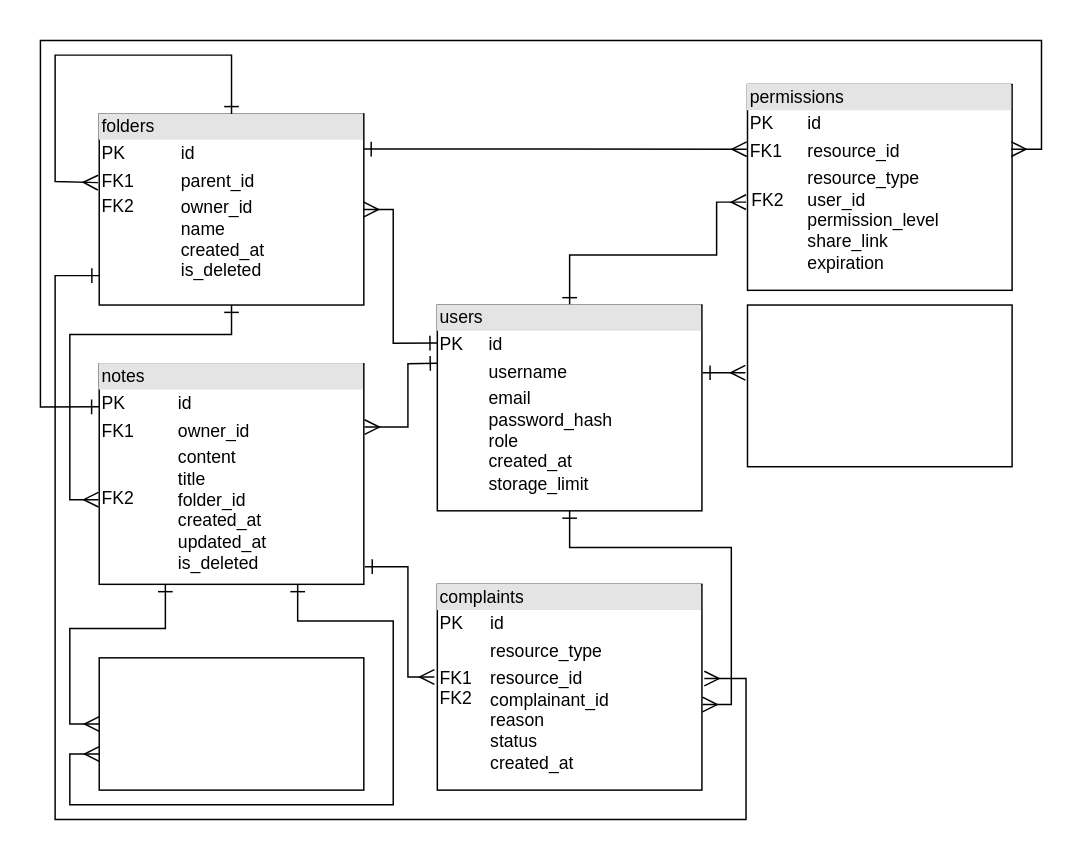
The diagram is 1083 pixels wide and 861 high, and some of its shapes have lost their labels. The shapes that lost their labels are listed below. From the top down, each one's centre as x and y in pixels, then its label:
the point at 879,385: logs PK id FK1 user_id action timestamp details
the point at 231,723: note_links PK id FK1 from_note_id FK2 to_note_id
